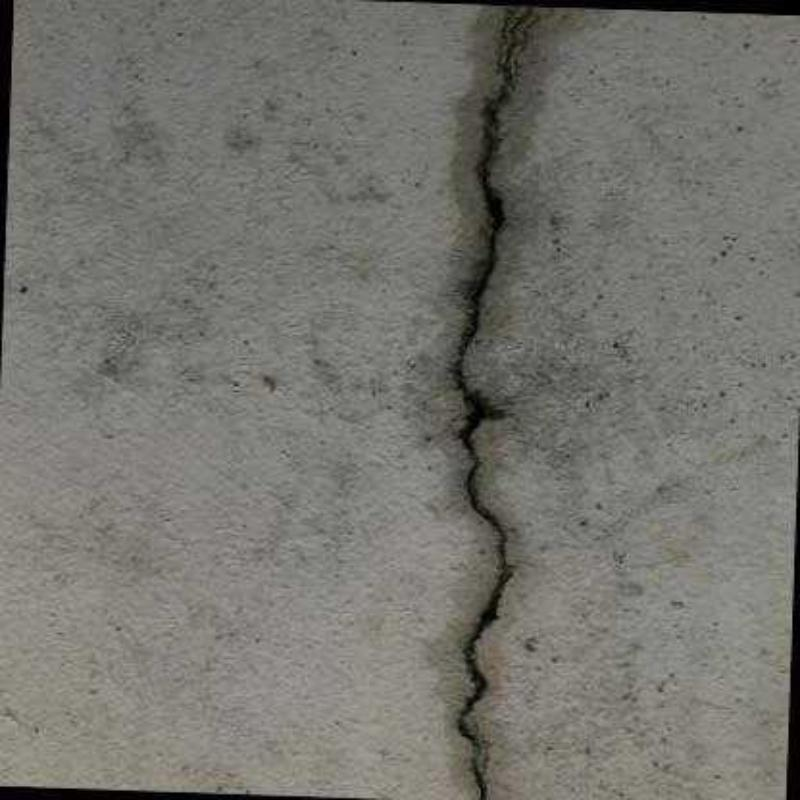pothole: (457, 3, 525, 797)
